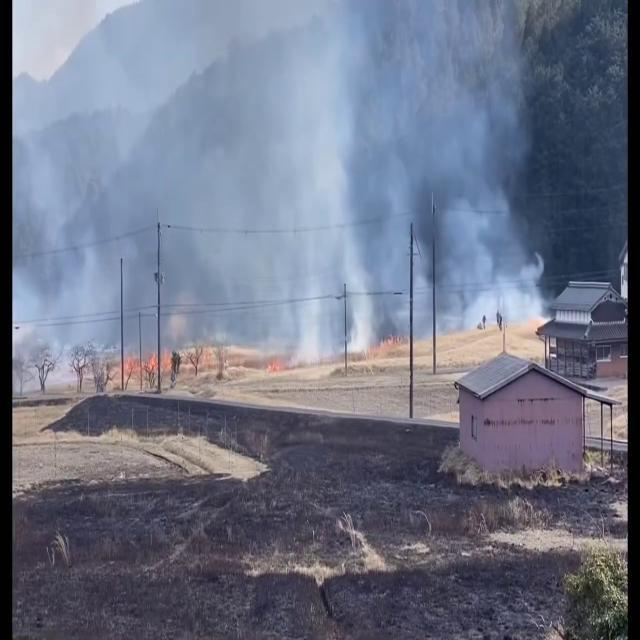Smoke: (11, 1, 550, 354)
